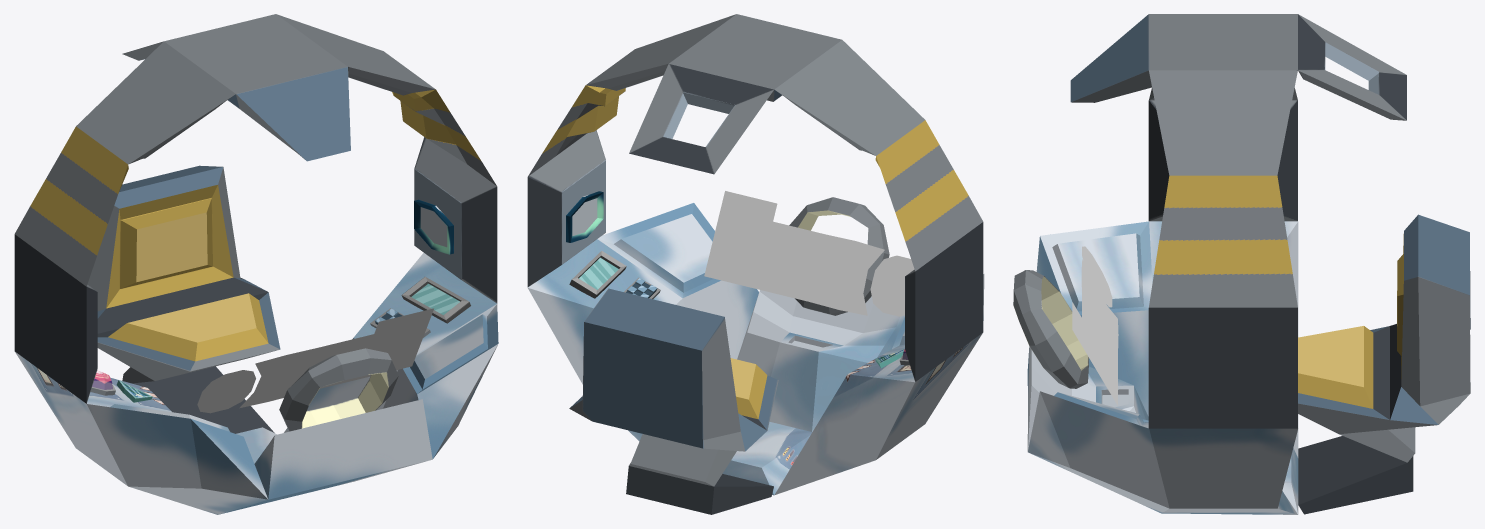
Rendered from cockpit_low_seat.fbx.
The picture shows the model from 3 angles, left to right: view 1: azimuth 30°, elevation 25°; view 2: azimuth 150°, elevation 25°; view 3: azimuth 270°, elevation 25°; orthographic projection. The views are drawn at different scales.
Parts seen in each view (by area): view 1: teto, base, cadeira, Volant, Painel, tela esquerda, sol e lua, BOTOES.001; view 2: teto, base, cadeira, Painel, Volant, sol e lua, tela esquerda, BOTOES.001; view 3: teto, base, cadeira, Volant, Painel, sol e lua.
Boxes of the visible parts, bbox=[...] form: teto: bbox=[14, 14, 497, 403]; base: bbox=[14, 253, 498, 514]; cadeira: bbox=[87, 165, 280, 433]; Volant: bbox=[279, 348, 398, 431]; Painel: bbox=[239, 308, 433, 408]; tela esquerda: bbox=[401, 276, 470, 323]; sol e lua: bbox=[197, 370, 255, 413]; BOTOES.001: bbox=[414, 199, 453, 254]; teto: bbox=[527, 14, 983, 381]; base: bbox=[527, 203, 984, 495]; cadeira: bbox=[569, 288, 778, 514]; Painel: bbox=[704, 191, 884, 315]; Volant: bbox=[789, 197, 889, 315]; sol e lua: bbox=[870, 255, 914, 316]; tela esquerda: bbox=[569, 251, 626, 298]; BOTOES.001: bbox=[566, 191, 603, 242]; teto: bbox=[1070, 14, 1406, 428]; base: bbox=[1027, 221, 1298, 514]; cadeira: bbox=[1298, 214, 1470, 514]; Volant: bbox=[1013, 270, 1088, 388]; Painel: bbox=[1072, 259, 1118, 405]; sol e lua: bbox=[1082, 246, 1112, 307].
Size of the model in its own units: 937 by 937 by 873.
9 materials, 9 textured.
